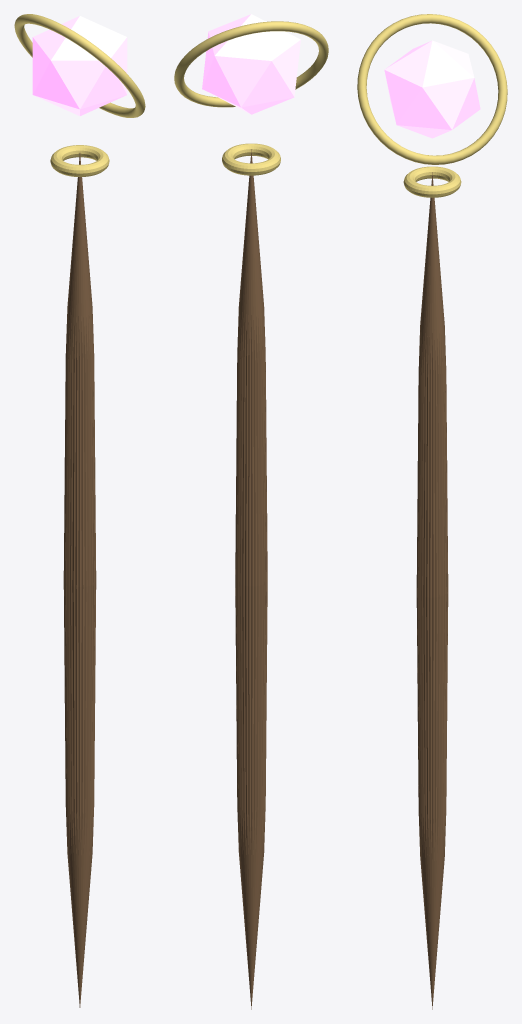
Rendered from magic_staff_crystal.glb.
The picture shows the model from 3 angles, left to right: view 1: azimuth 90°, elevation 25°; view 2: azimuth 150°, elevation 25°; view 3: azimuth 330°, elevation 25°; orthographic projection. The views are drawn at different scales.
Visible parts, largest first — view 1: Cylinder, Icosphere, Torus.001, Torus; view 2: Cylinder, Icosphere, Torus.001, Torus; view 3: Cylinder, Icosphere, Torus.001, Torus.
Part boxes in pixels (x1,y1,x2,y2): Cylinder: (63,153,96,1007); Icosphere: (32,16,127,115); Torus.001: (14,14,145,117); Torus: (50,145,109,176); Cylinder: (235,149,267,1009); Icosphere: (202,14,300,114); Torus.001: (174,21,328,107); Torus: (222,143,280,175); Cylinder: (416,172,448,1009); Icosphere: (384,40,480,138); Torus.001: (357,14,507,164); Torus: (403,166,461,197).
Bounding box in the file's own units: 0.2116 × 1.79 × 0.2125.
